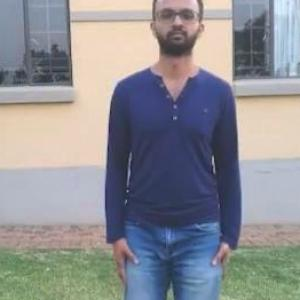follow: (104, 0, 243, 299)
